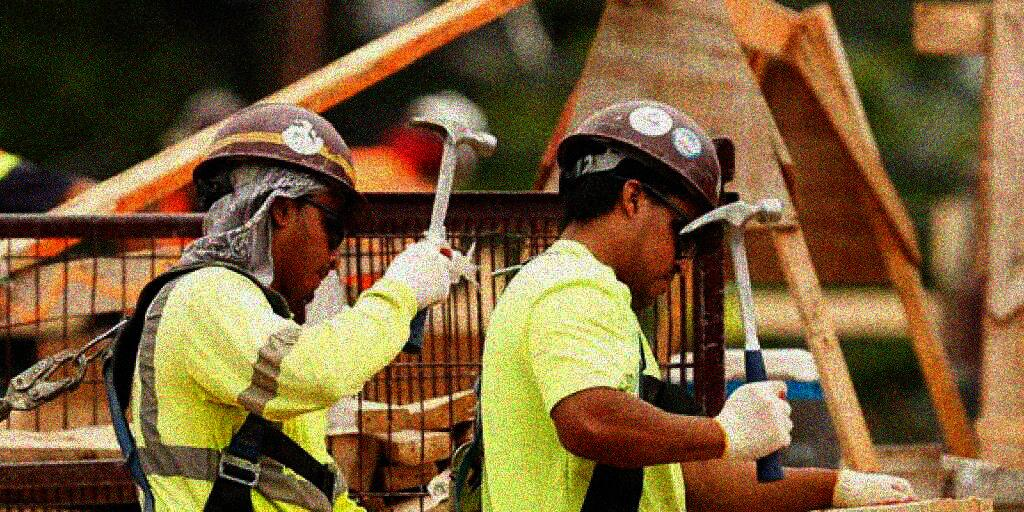helmet: (190, 99, 378, 303), (546, 97, 729, 305)
